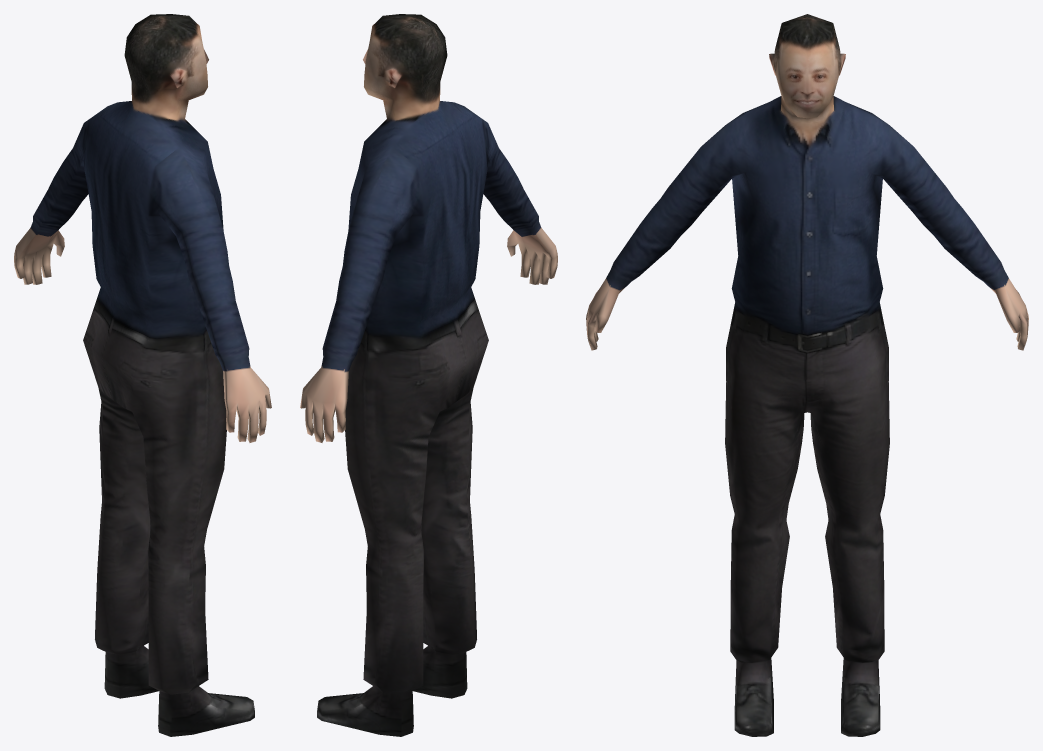
Rendered from Character_Male_38.fbx.
3 views of the same model, side by side, from view 1: azimuth 30°, elevation 25°; view 2: azimuth 150°, elevation 25°; view 3: azimuth 270°, elevation 25° (orthographic).
Parts seen in each view (by area): view 1: Character_Male_38; view 2: Character_Male_38; view 3: Character_Male_38.
Boxes of the visible parts, x1=… form: Character_Male_38: x1=14, y1=14, x2=271, y2=736; Character_Male_38: x1=300, y1=14, x2=557, y2=736; Character_Male_38: x1=586, y1=14, x2=1028, y2=736.
Bounding box in the file's own units: 0.3205 × 1.7 × 0.9936.
